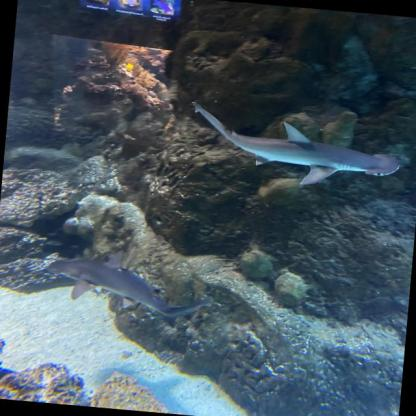shark: (186, 101, 404, 193), (43, 243, 216, 323)
